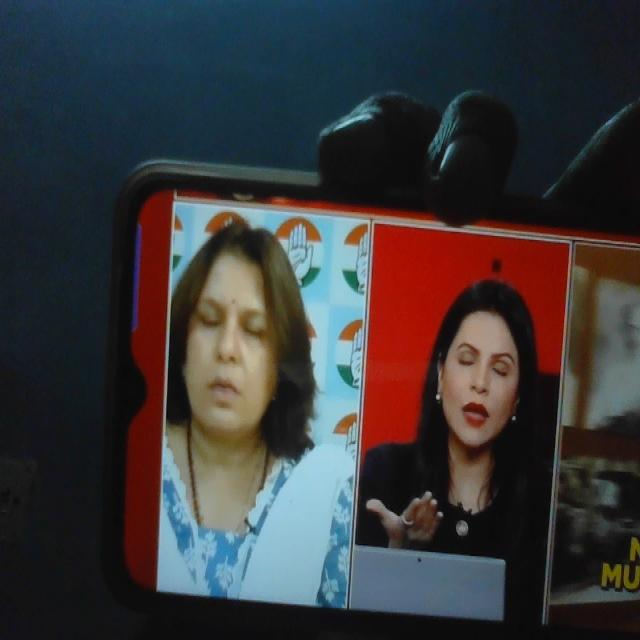fake: (172, 216, 294, 447), (425, 244, 541, 463)
